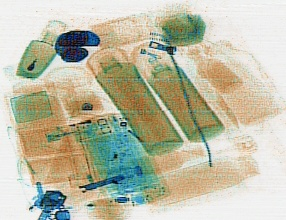lighter: (42, 118, 98, 141)
